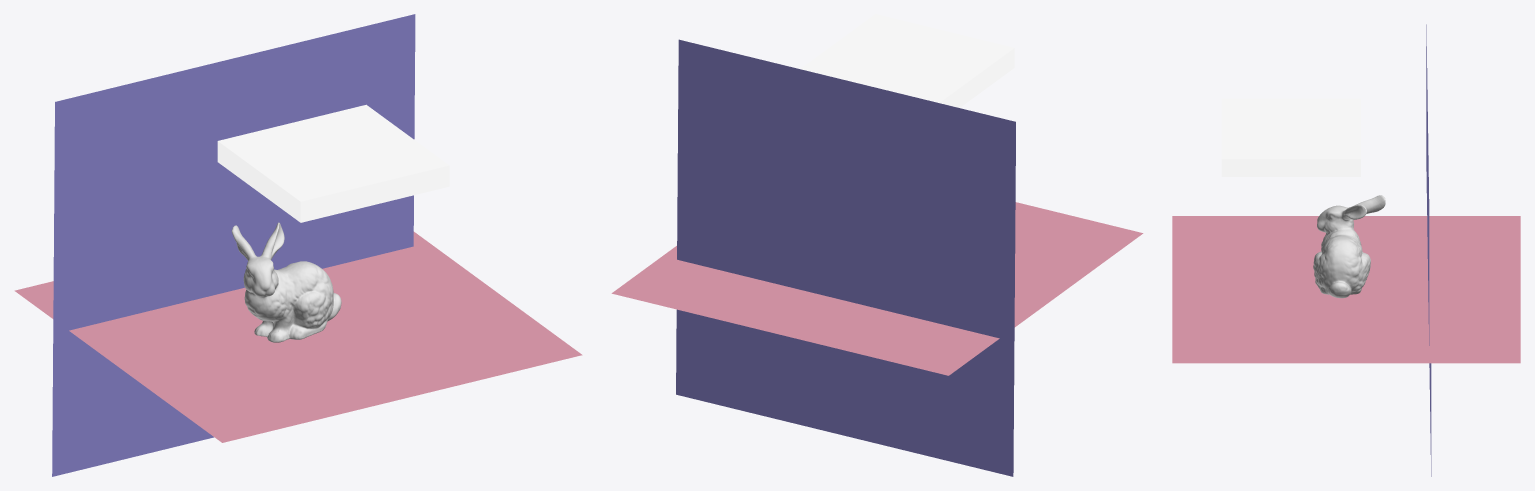
Rendered from pathtracer_bunny.glb.
3 renders of one model, left to right at view 1: azimuth 30°, elevation 25°; view 2: azimuth 150°, elevation 25°; view 3: azimuth 270°, elevation 25°, orthographic. The views are drawn at different scales.
Parts seen in each view (by area): view 1: Plane.002, Plane.001, Cube.002, bun_zipper; view 2: Plane.002, Plane.001, Cube.002; view 3: Plane.001, Cube.002, bun_zipper, Plane.002.
Boxes of the visible parts, left/top/right/bottom form: Plane.002: left=52, top=14, right=415, bottom=476; Plane.001: left=14, top=231, right=582, bottom=442; Cube.002: left=217, top=104, right=449, bottom=222; bun_zipper: left=231, top=222, right=341, bottom=342; Plane.002: left=676, top=39, right=1015, bottom=476; Plane.001: left=611, top=202, right=1143, bottom=375; Cube.002: left=800, top=14, right=1014, bottom=107; Plane.001: left=1172, top=216, right=1520, bottom=363; Cube.002: left=1221, top=98, right=1360, bottom=176; bun_zipper: left=1313, top=195, right=1385, bottom=298; Plane.002: left=1426, top=24, right=1431, bottom=476.
Bounding box in the file's own units: 25.67 × 24.6 × 24.61.
